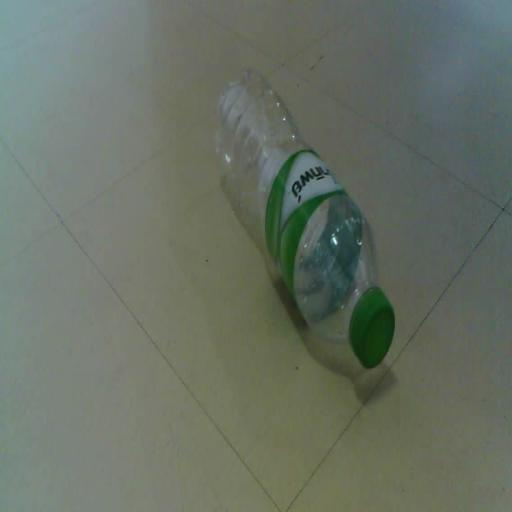bottle: (201, 49, 415, 399)
